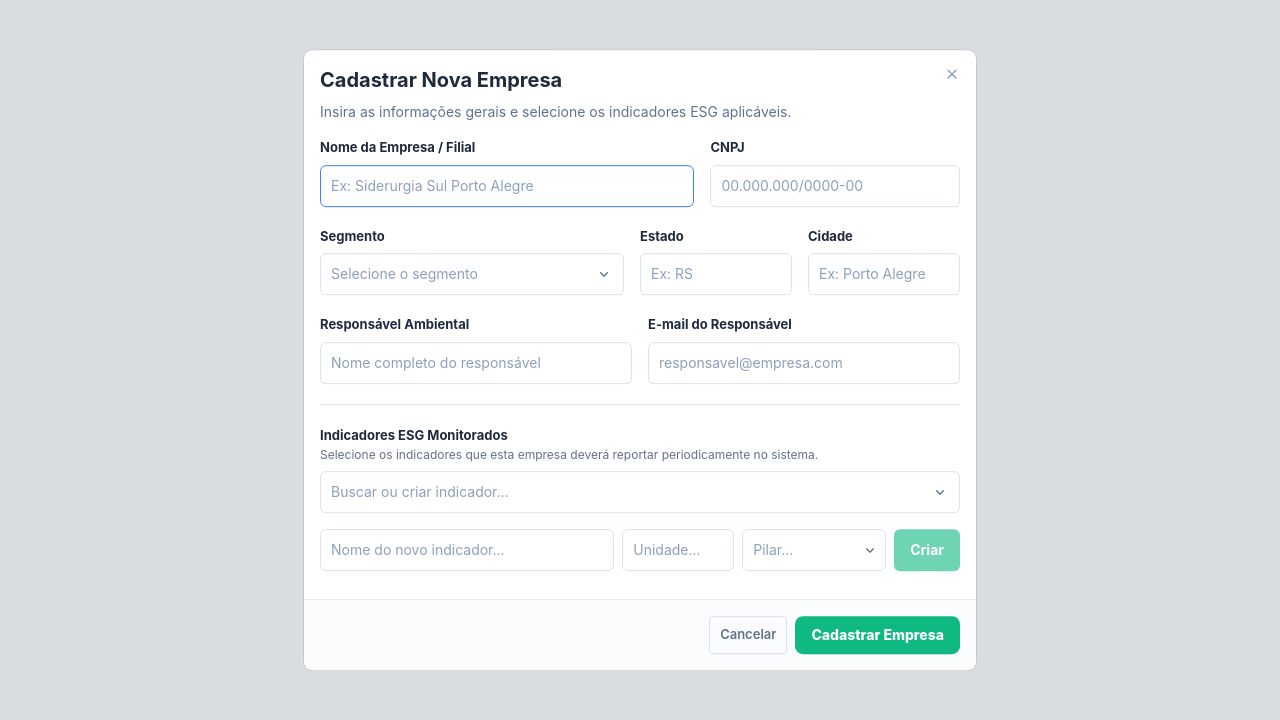
Test: NewCompanyModal validation › reports only the single missing field when everything else is filled
Expected: the button "Cadastrar Empresa" is enabled, [795,616,960,654]
Type "Empresa Teste" into the field labelled "Nome da Empresa / Filial" at (507, 186), box [320,165,694,207]
Type "77666555000144" into the field labelled "CNPJ" at (835, 186), box [710,165,960,207]
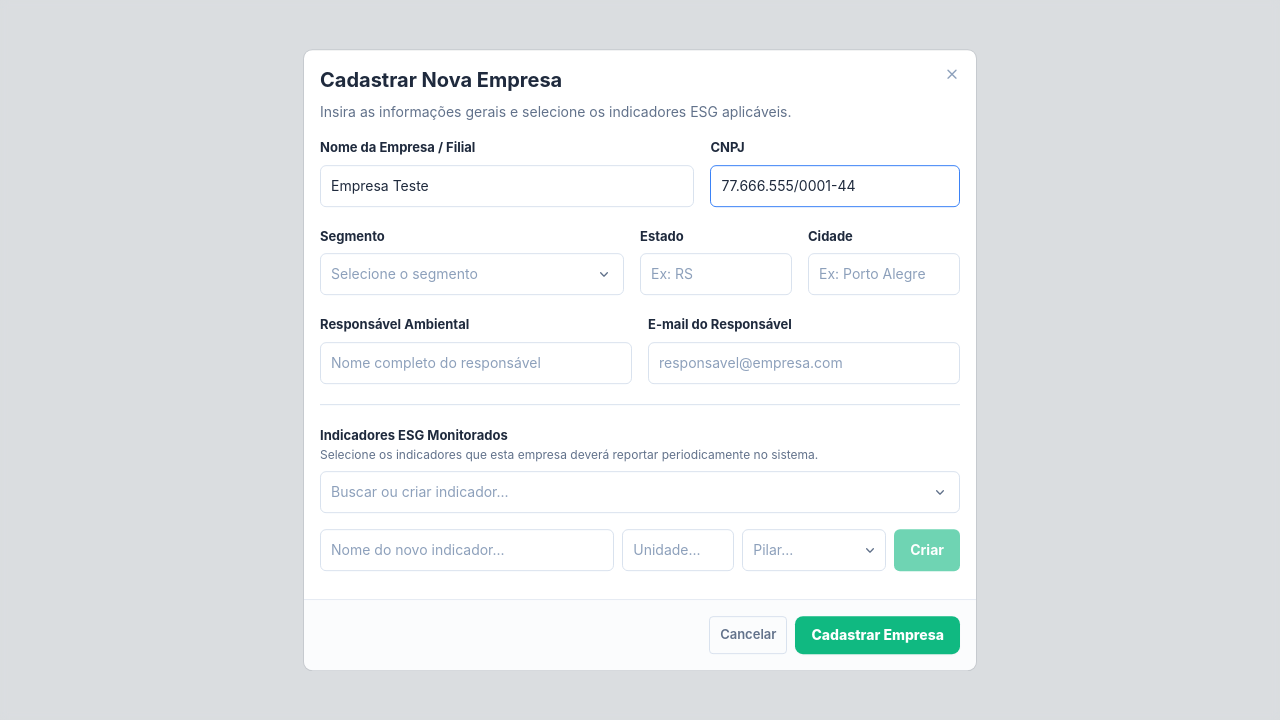
Select "Siderurgia" in the dropdown labelled "Segmento" at (472, 274), box [320,253,624,295]
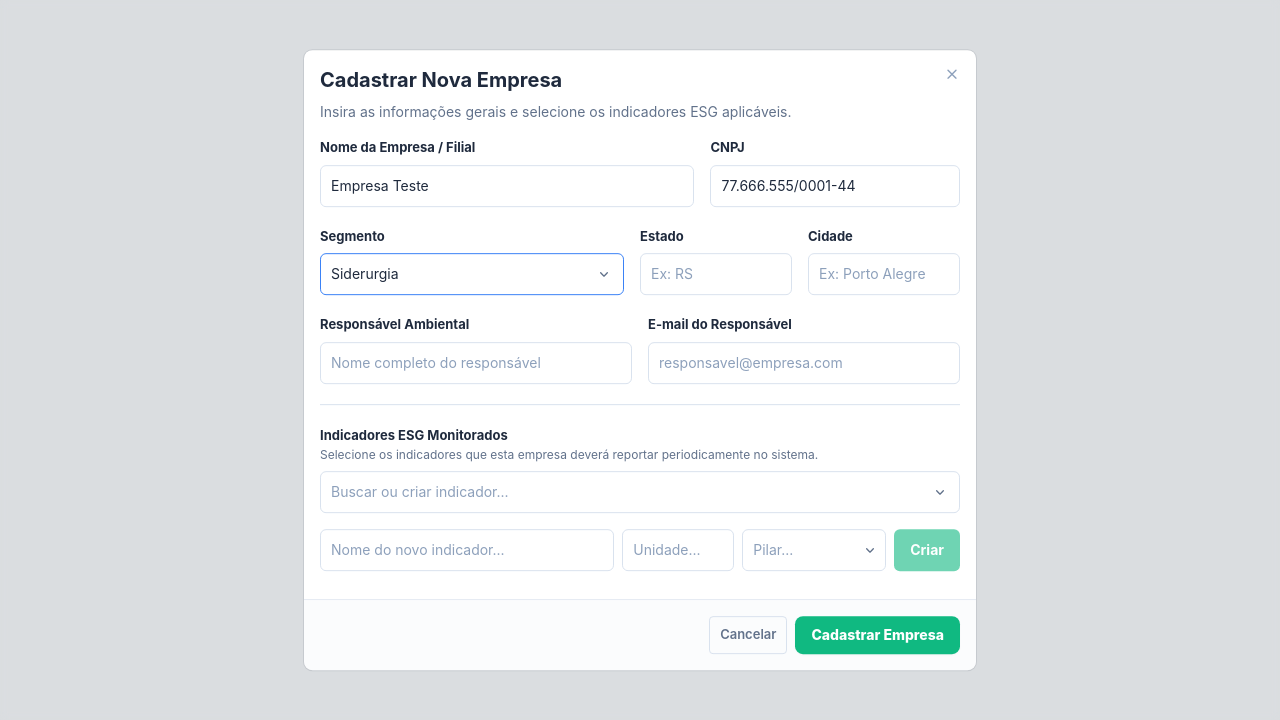
Type "Porto Alegre" into the field labelled "Cidade" at (884, 274), box [808,253,960,295]
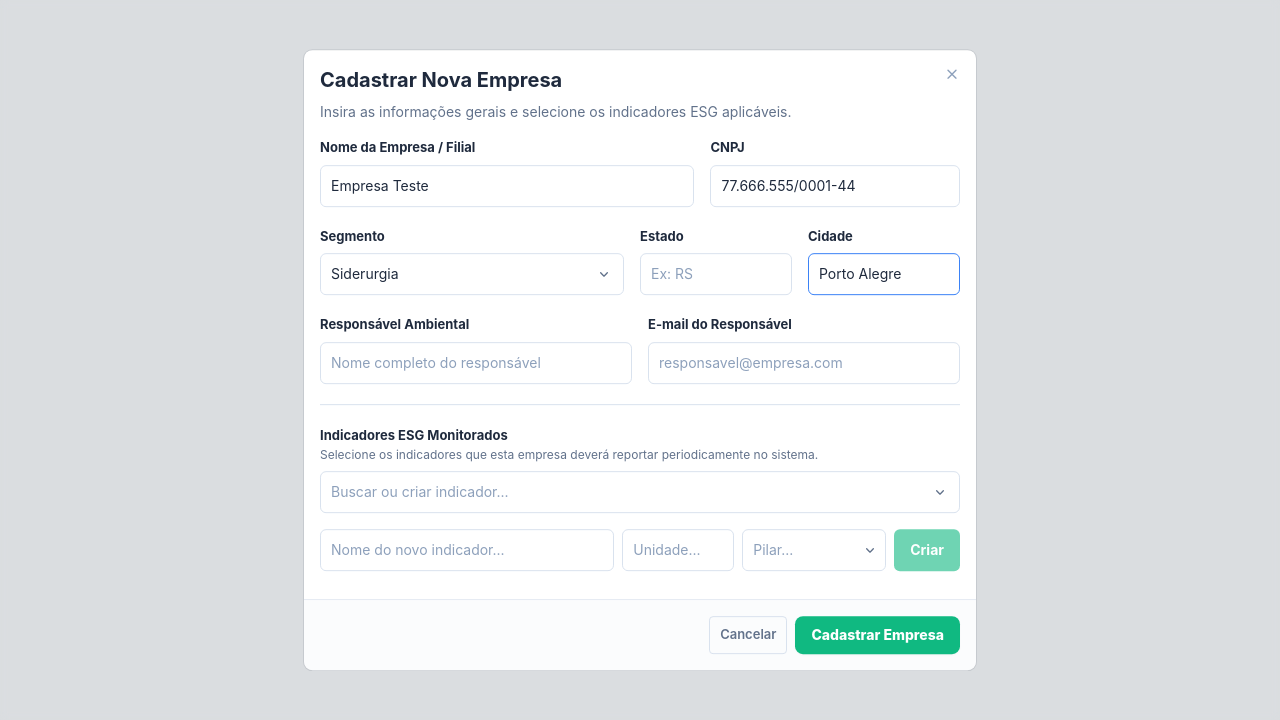
Type "Maria Silva" into the field labelled "Responsável Ambiental" at (476, 363), box [320,342,632,384]
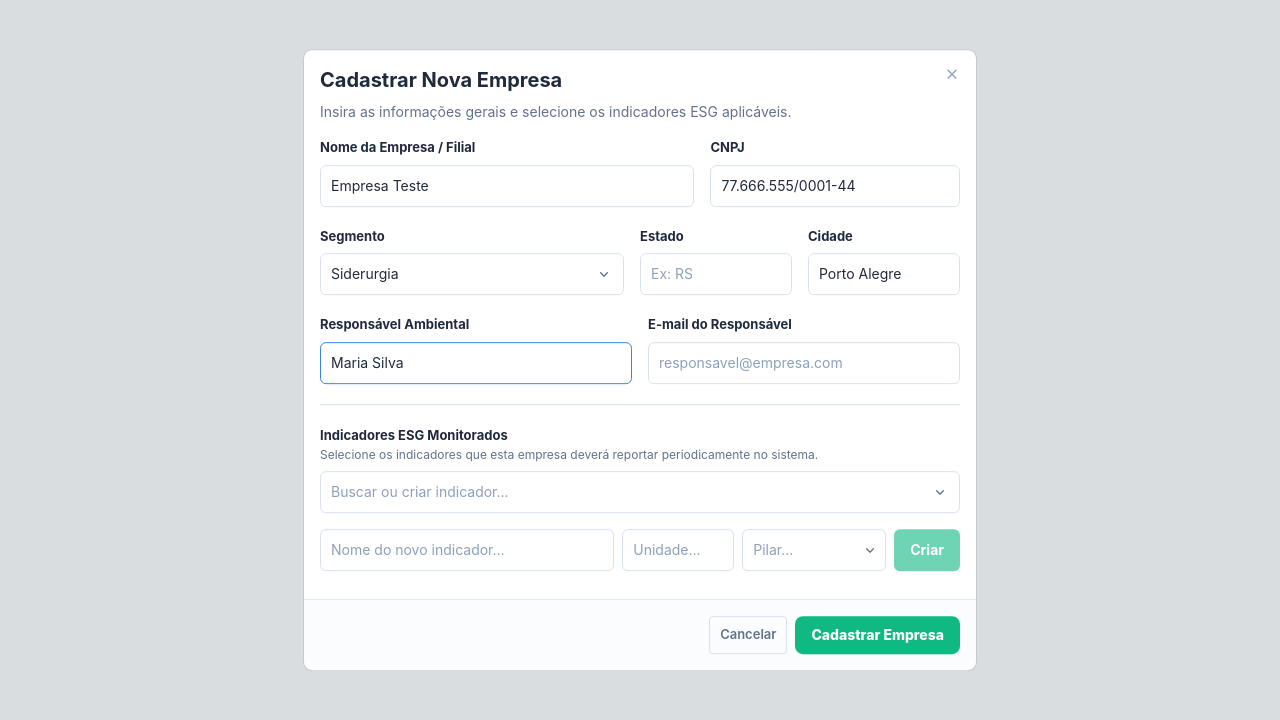
Type "maria@empresa.com" into the field labelled "E-mail do Responsável" at (804, 363), box [648,342,960,384]
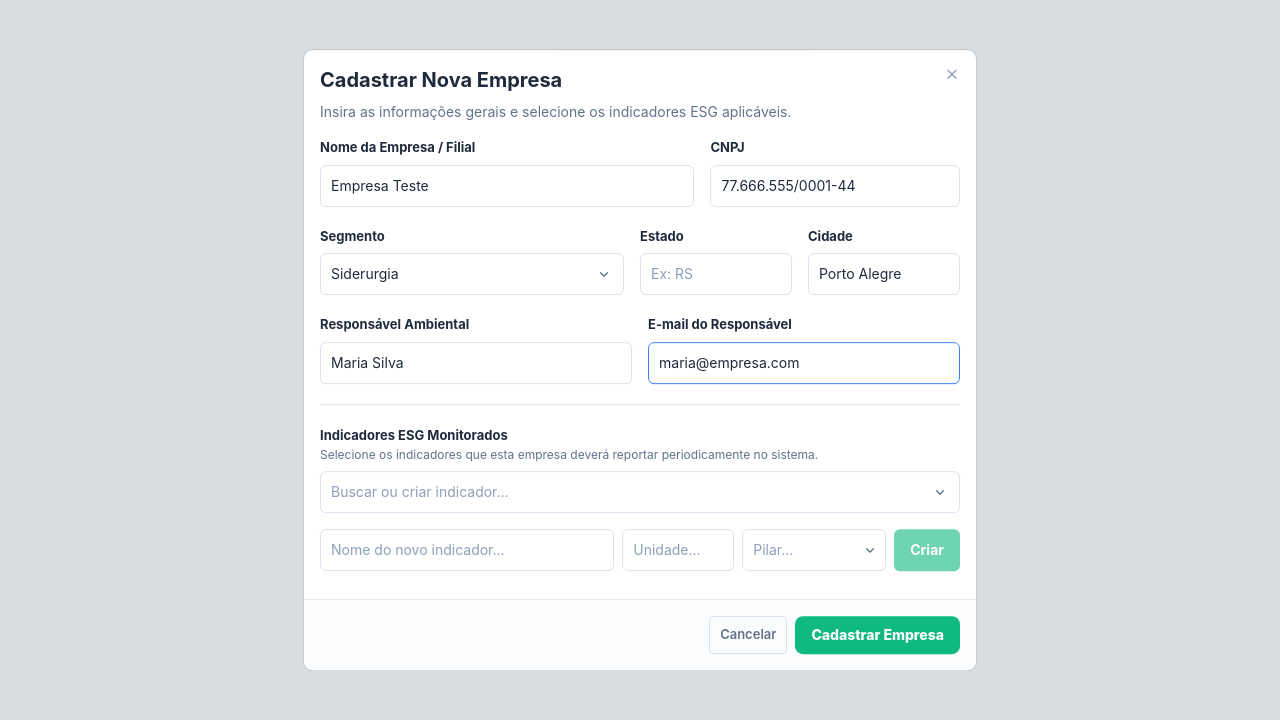
Click the button "Cadastrar Empresa" at (878, 635), box [795,616,960,654]
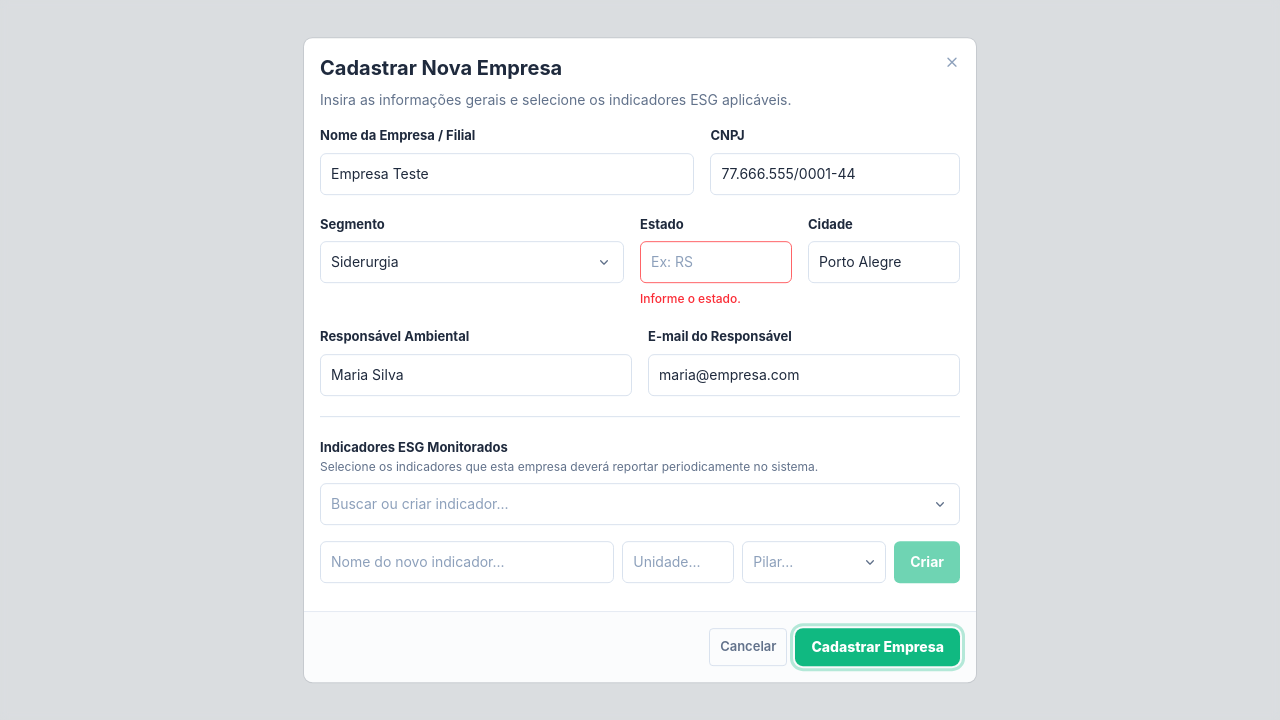
Expected: the text "Informe o estado." is shown, [640,291,741,306]
